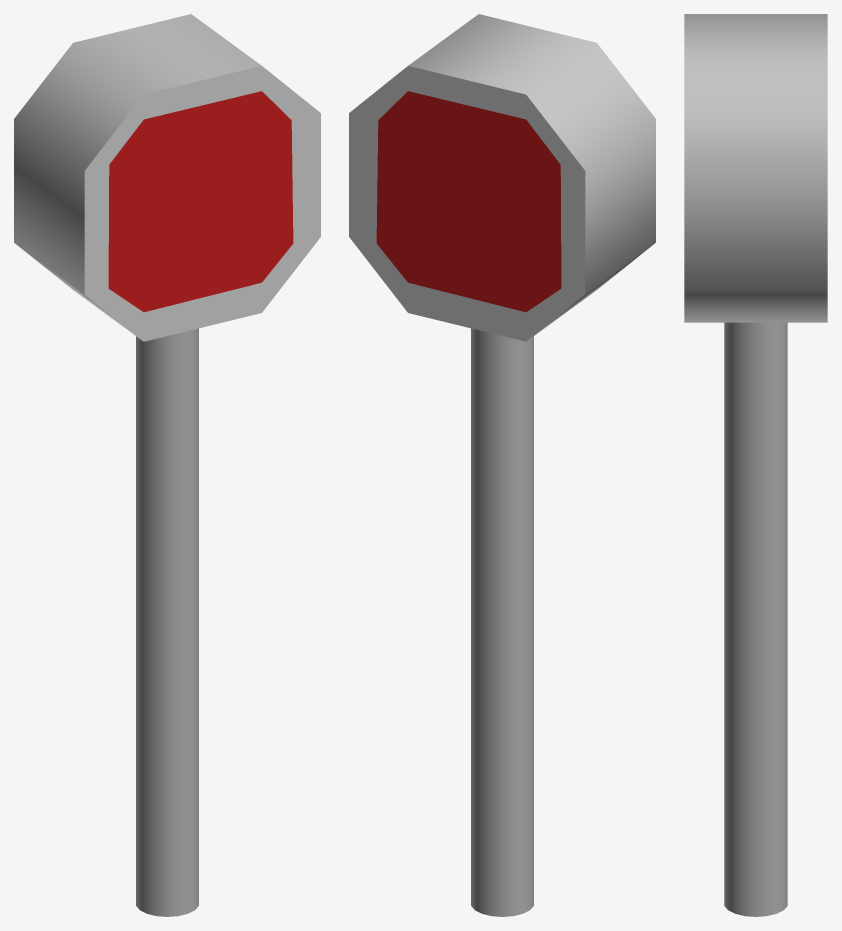
The model's file is M_StopSign.FBX.
3 views of the same model, side by side, from view 1: azimuth 30°, elevation 25°; view 2: azimuth 150°, elevation 25°; view 3: azimuth 270°, elevation 25° (orthographic).
Parts seen in each view (by area): view 1: TrafficLight001; view 2: TrafficLight001; view 3: TrafficLight001.
Boxes of the visible parts, bbox=[...] form: TrafficLight001: bbox=[14, 14, 320, 916]; TrafficLight001: bbox=[349, 14, 655, 916]; TrafficLight001: bbox=[684, 14, 827, 916].
Size of the model in its own units: 0.8 by 0.415 by 2.75.
